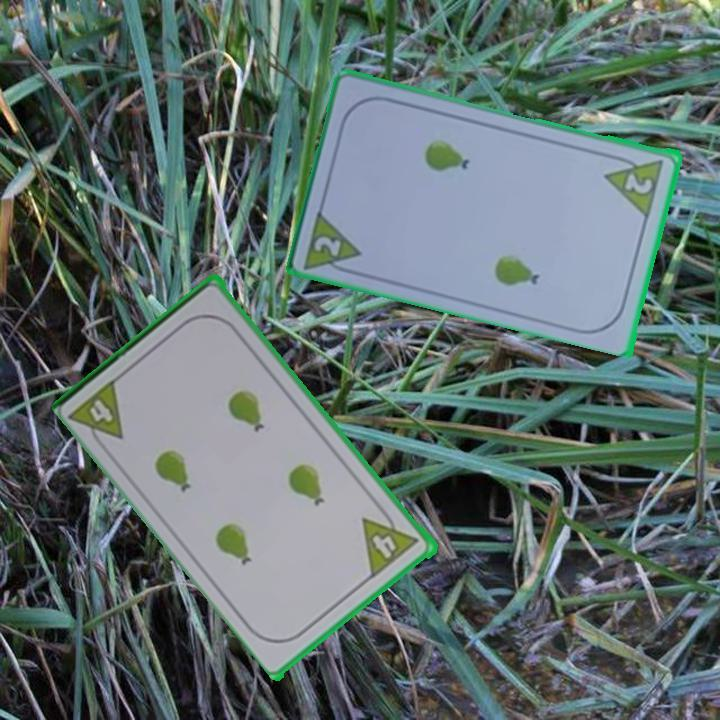2p: (621, 169, 656, 197), (310, 232, 345, 259)
4p: (359, 518, 404, 577), (86, 395, 118, 426)
